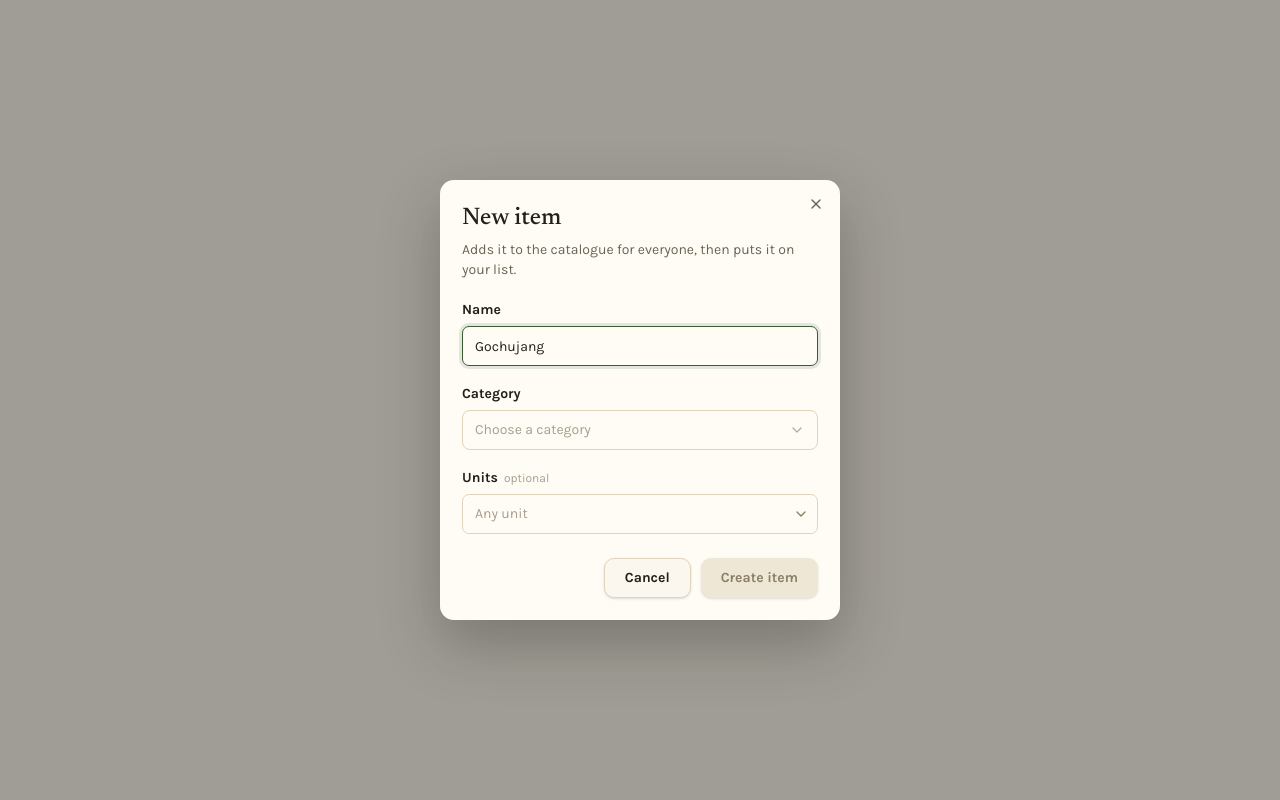
Test case: CreateItemDialog › keeps Create disabled until a category is chosen
This screenshot has width=1280, height=800.
Expected: the button "Create item" is shown, [701, 558, 818, 598]
Expected: the button "Create item" is disabled, [701, 558, 818, 598]
Click the dropdown labelled "category". click: [533, 430]
box: [462, 410, 818, 450]
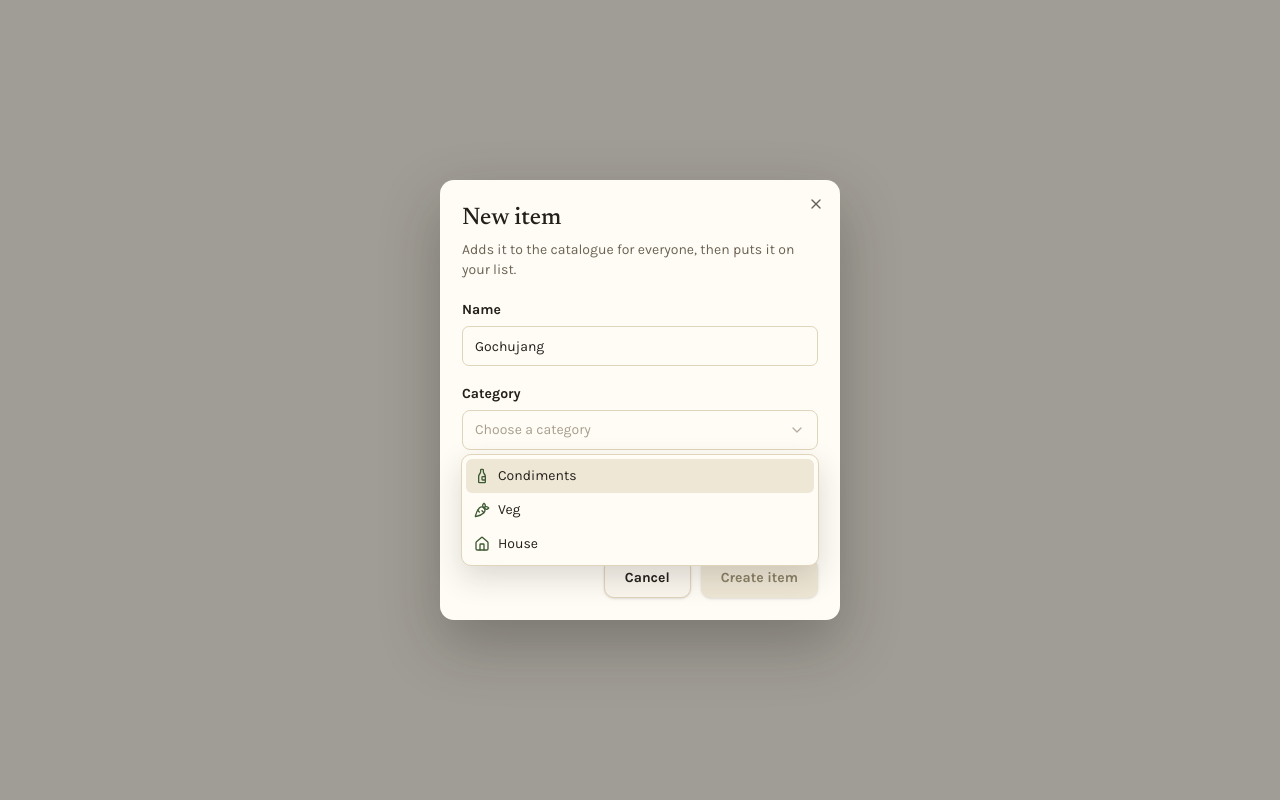
Click the option "Condiments". click: [537, 476]
box: [466, 459, 814, 493]
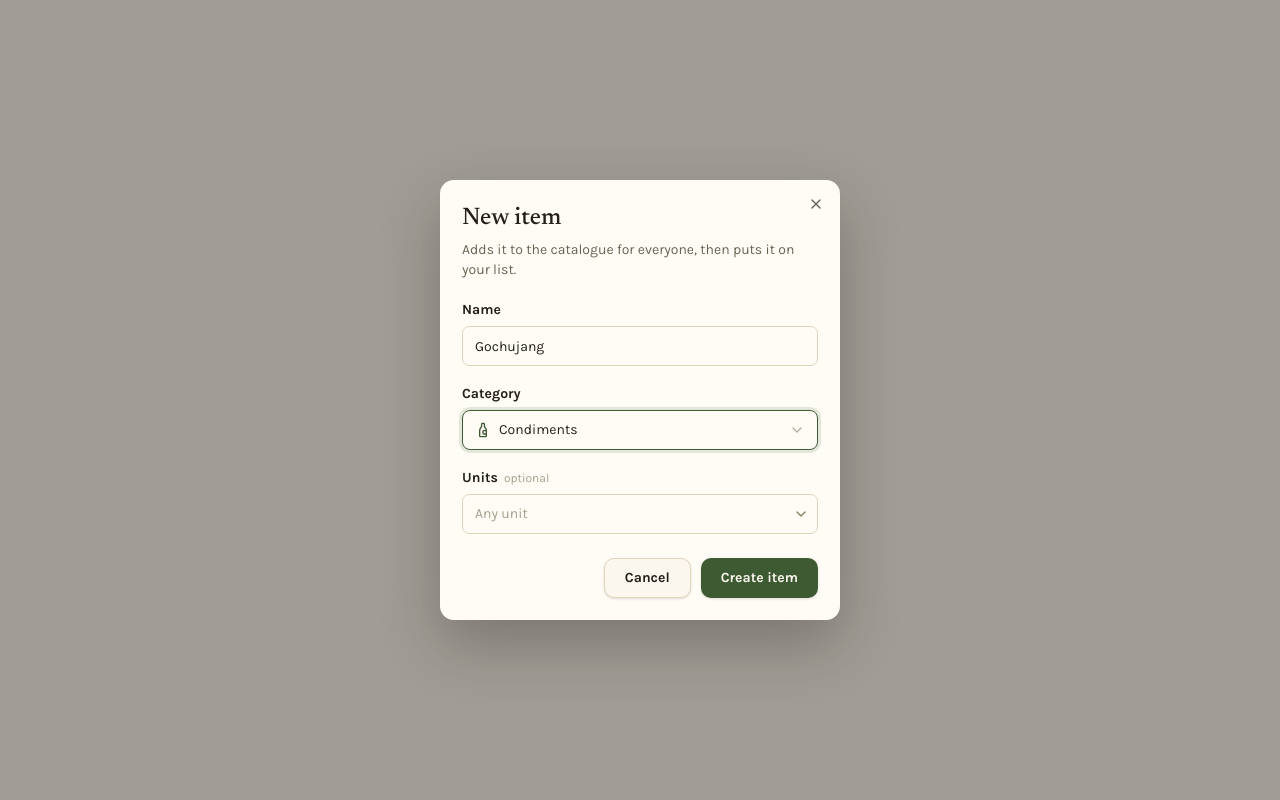
Now the button "Create item" is enabled, box [701, 558, 818, 598]
